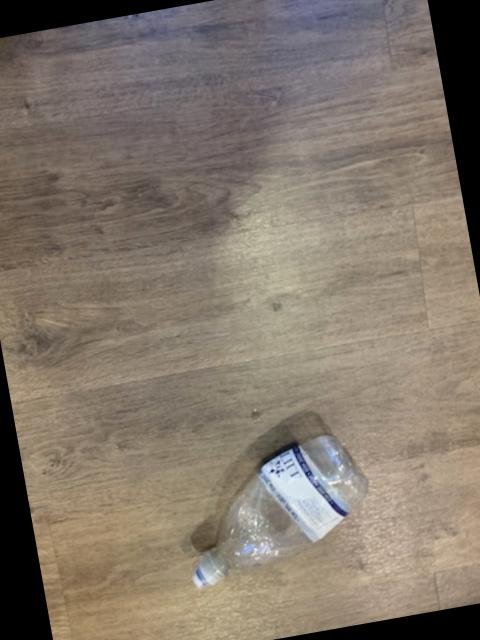plastic: (191, 437, 366, 590)
